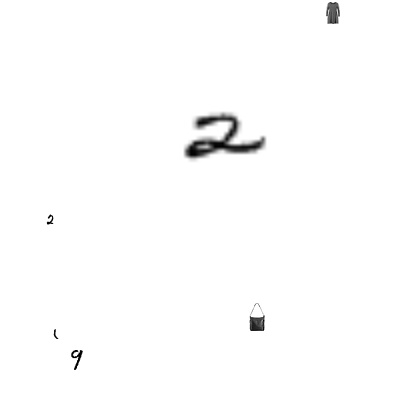1: (48, 327, 62, 341)
2: (161, 81, 273, 193), (43, 213, 57, 227)
9: (63, 343, 91, 371)
Bag: (243, 303, 271, 331)
Dress: (322, 2, 344, 24)
